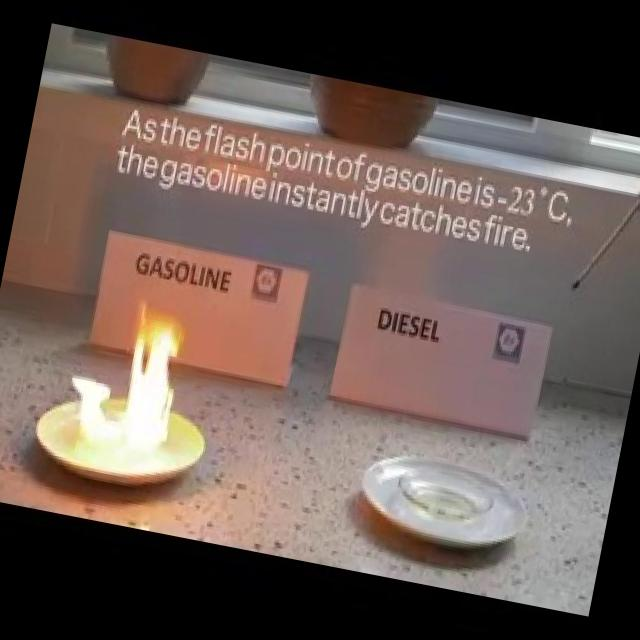Smoke: (51, 282, 199, 470)
